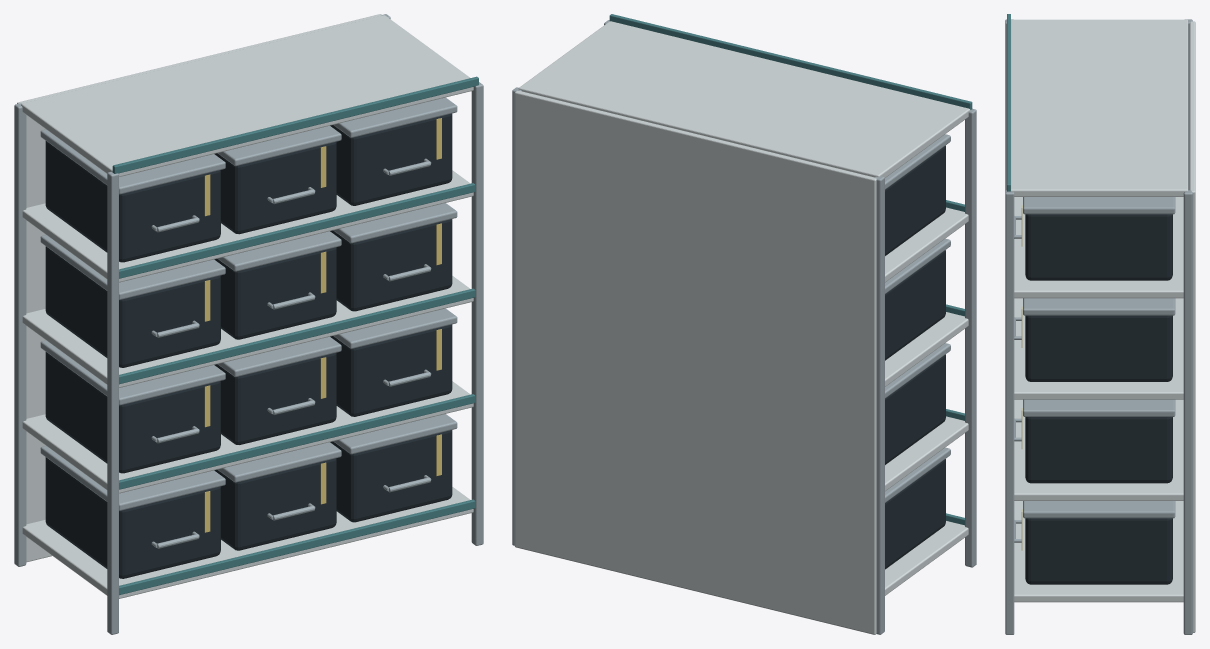
Rendered from RD_ArchiveCaseRack.fbx.
3 views of the same model, side by side, from view 1: azimuth 30°, elevation 25°; view 2: azimuth 150°, elevation 25°; view 3: azimuth 270°, elevation 25° (orthographic). The views are drawn at different scales.
Visible parts, largest first — view 1: RD_ArchiveCaseRack; view 2: RD_ArchiveCaseRack; view 3: RD_ArchiveCaseRack.
Boxes of the visible parts, <box> form: RD_ArchiveCaseRack: <box>14,14,483,634</box>; RD_ArchiveCaseRack: <box>512,14,976,634</box>; RD_ArchiveCaseRack: <box>1005,14,1195,634</box>.
Bounding box in the file's own units: 174 × 208 × 79.95.
